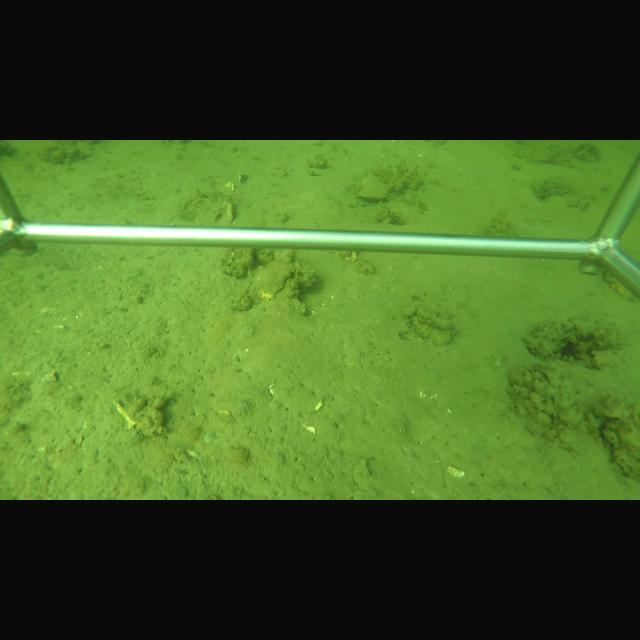Oyster-Closed: (251, 260, 298, 302), (411, 315, 457, 339), (355, 174, 394, 201), (385, 200, 426, 225)
